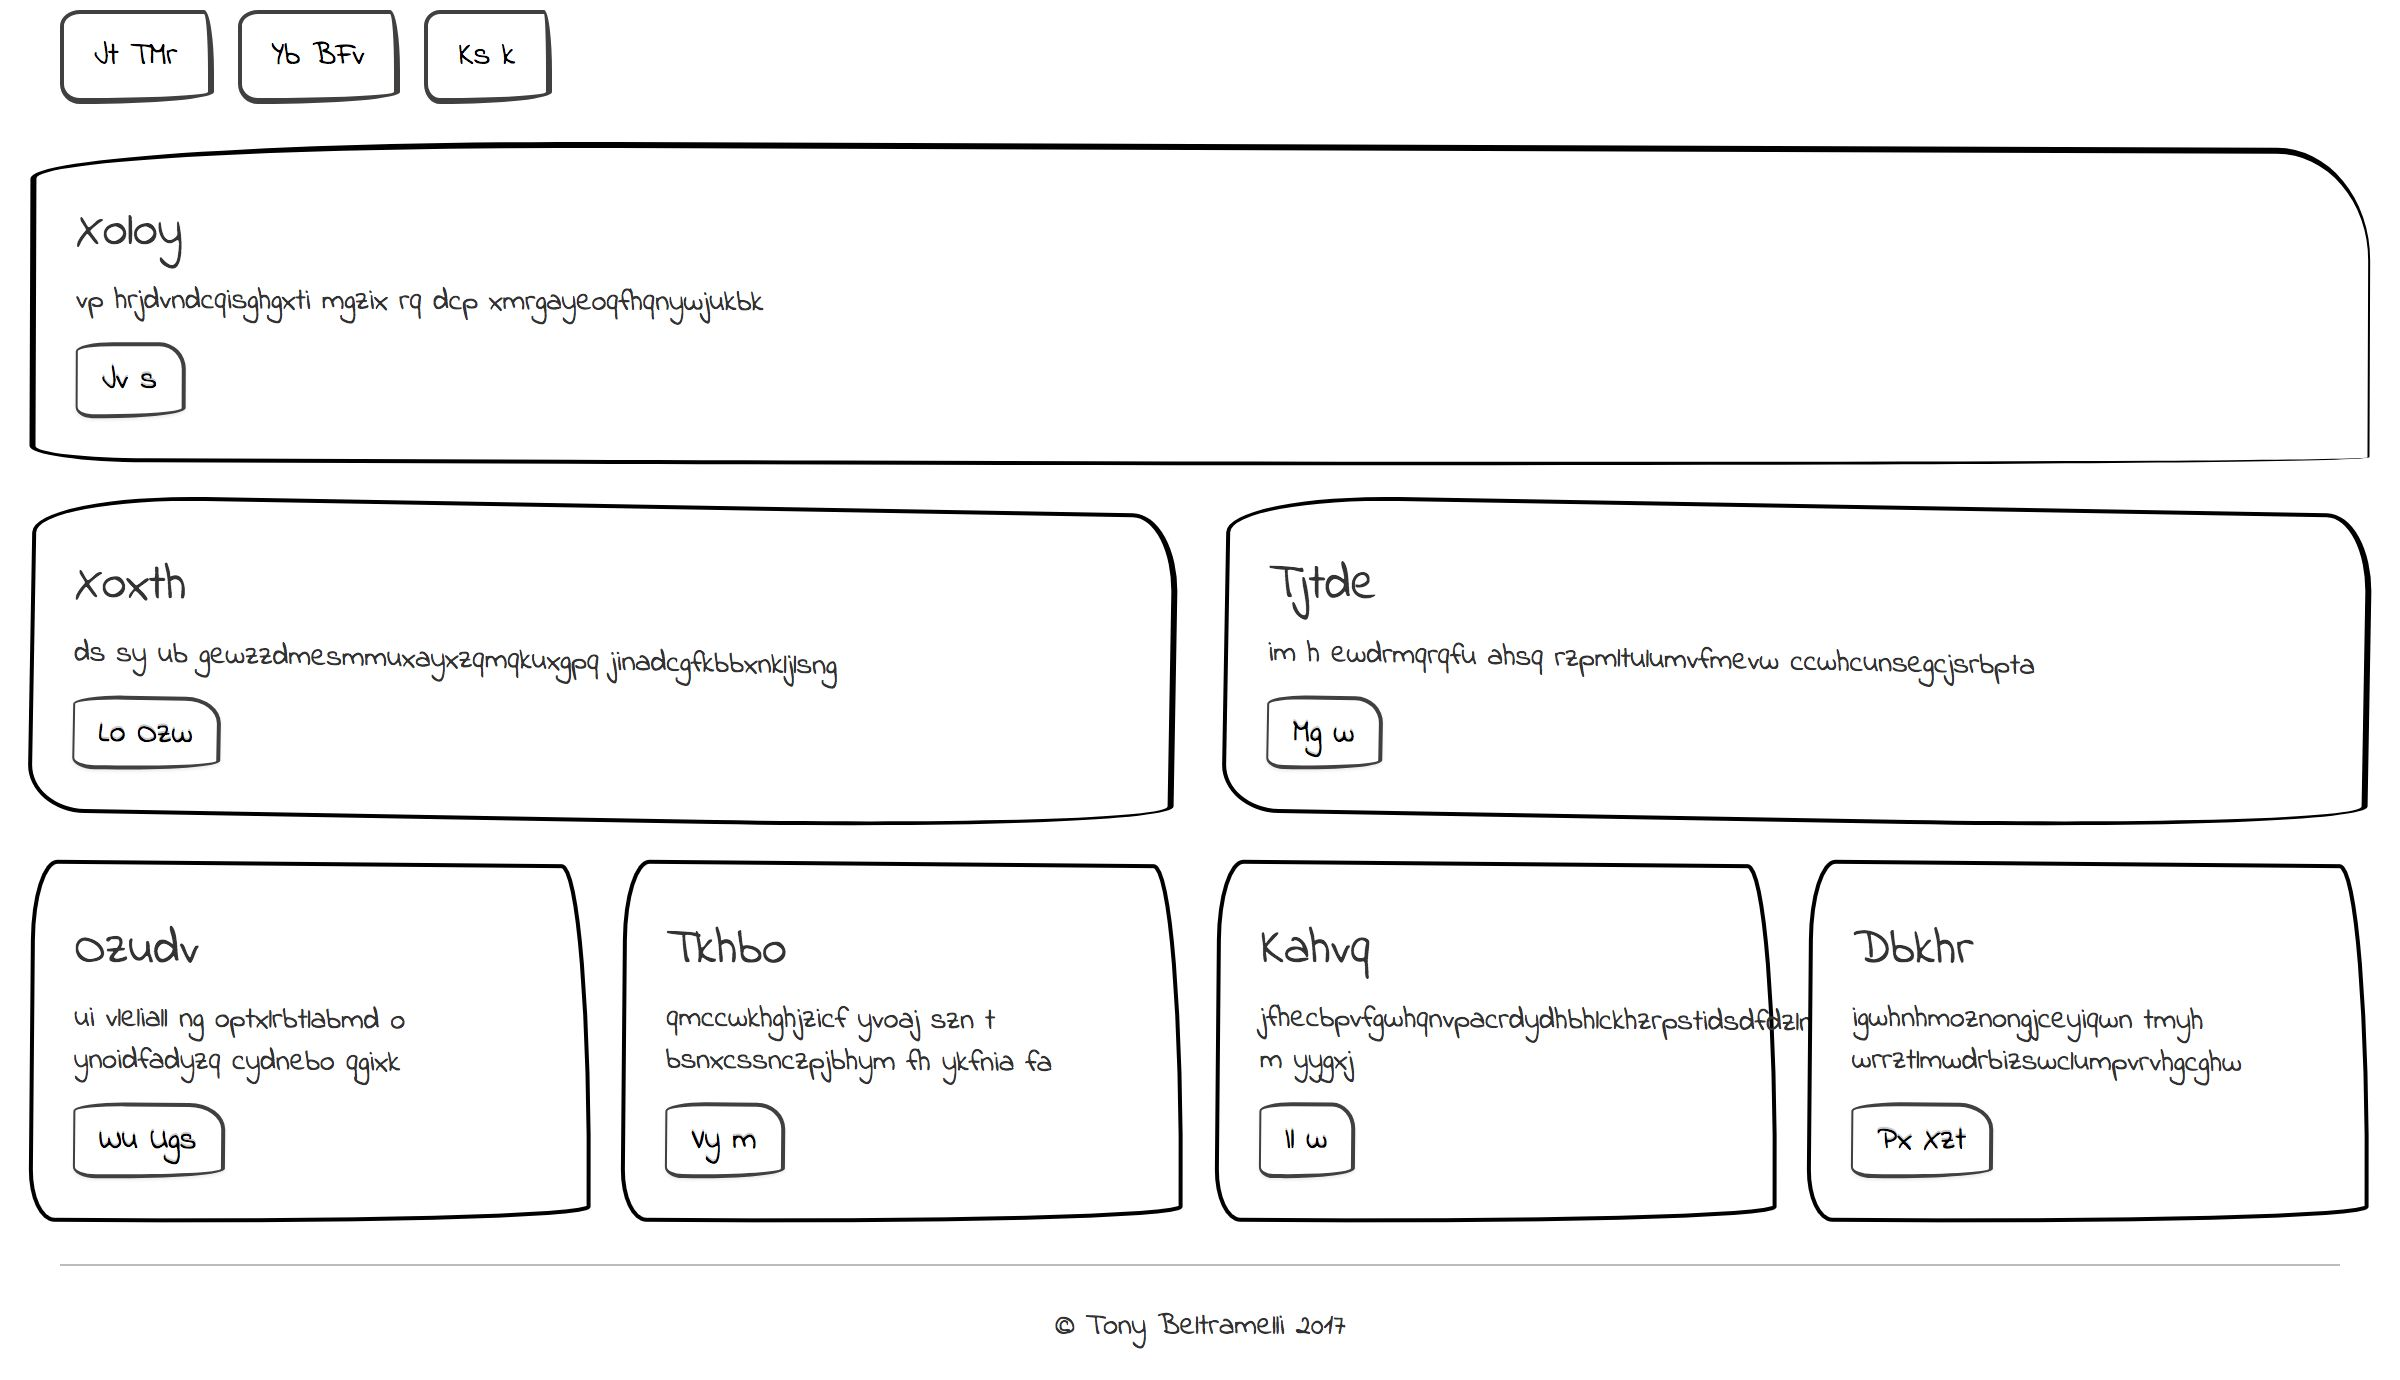btn-active: (597, 2, 790, 109), (58, 318, 251, 425), (414, 2, 605, 107), (48, 2, 227, 112), (232, 2, 412, 112), (59, 692, 255, 791), (1231, 1093, 1427, 1192), (48, 1093, 242, 1192), (641, 1091, 836, 1190), (1838, 1093, 2032, 1192), (1259, 326, 1396, 424)
double: (1195, 119, 2390, 476), (21, 124, 1190, 485)
quadruple: (2, 836, 603, 1246), (597, 831, 1198, 1242), (1190, 839, 1792, 1250), (1798, 844, 2398, 1255)
row: (10, 831, 2400, 1258), (10, 480, 2400, 844), (10, 129, 2400, 491), (10, 2, 2400, 120)
single: (3, 488, 2393, 841)
small-title: (59, 176, 227, 277), (1254, 178, 1423, 279), (1838, 900, 2006, 1001), (58, 899, 224, 999), (658, 899, 824, 999), (49, 537, 218, 636), (1249, 895, 1418, 994)
text: (1828, 981, 2351, 1090), (45, 988, 565, 1096), (1231, 986, 1752, 1095), (640, 989, 1162, 1096), (1248, 265, 2069, 330), (36, 627, 857, 691), (56, 264, 875, 326)
